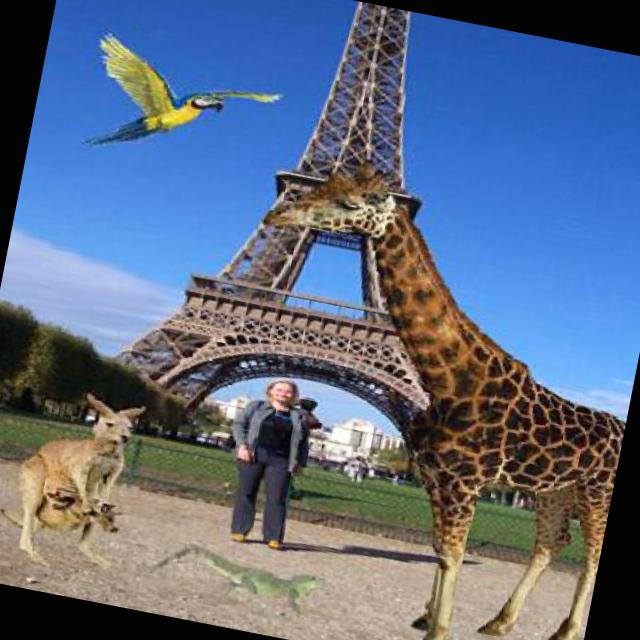Person: (198, 368, 315, 552), (345, 452, 365, 482), (389, 470, 399, 484)
